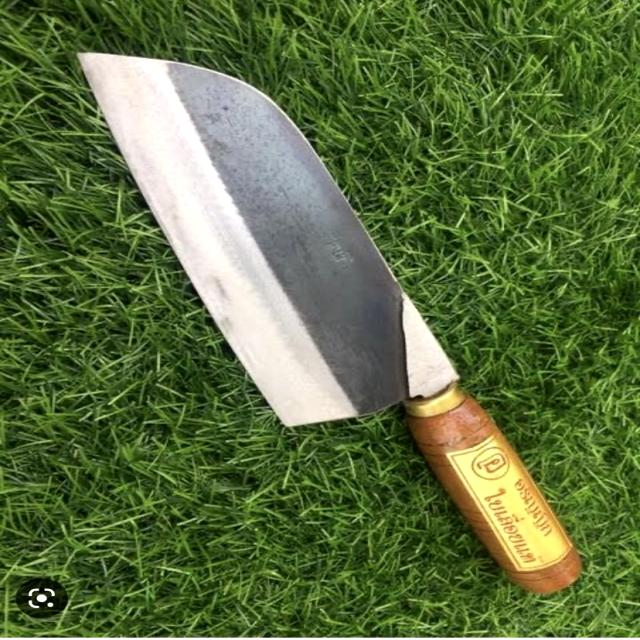knife: (72, 39, 595, 596)
